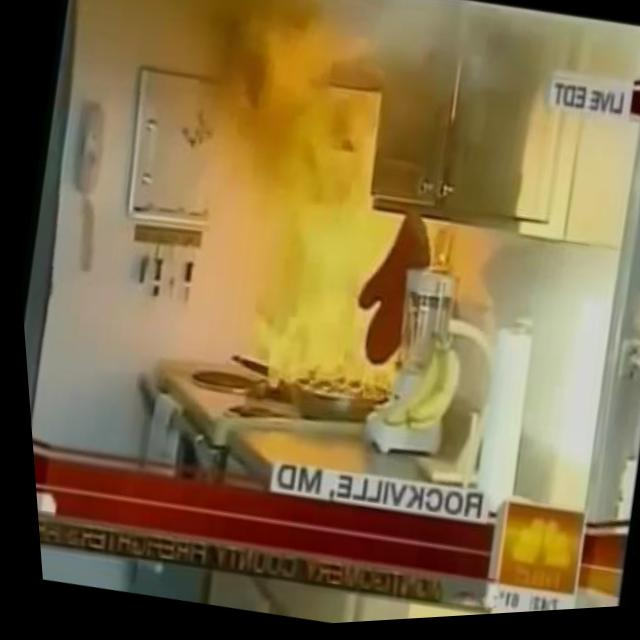fire: (175, 12, 472, 427)
